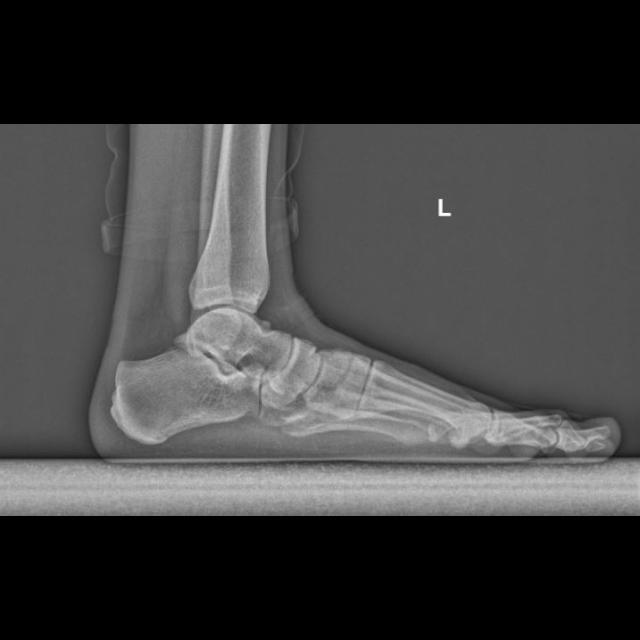a: (111, 342, 265, 448)
b: (267, 337, 321, 406)
c: (356, 360, 491, 439)
